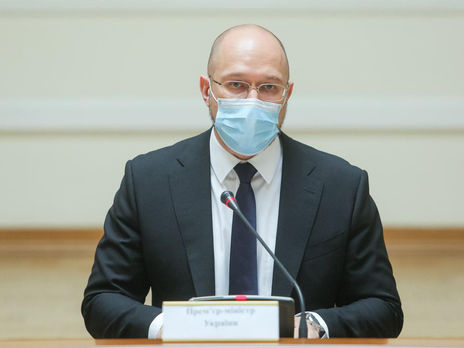tie: (224, 160, 266, 295)
